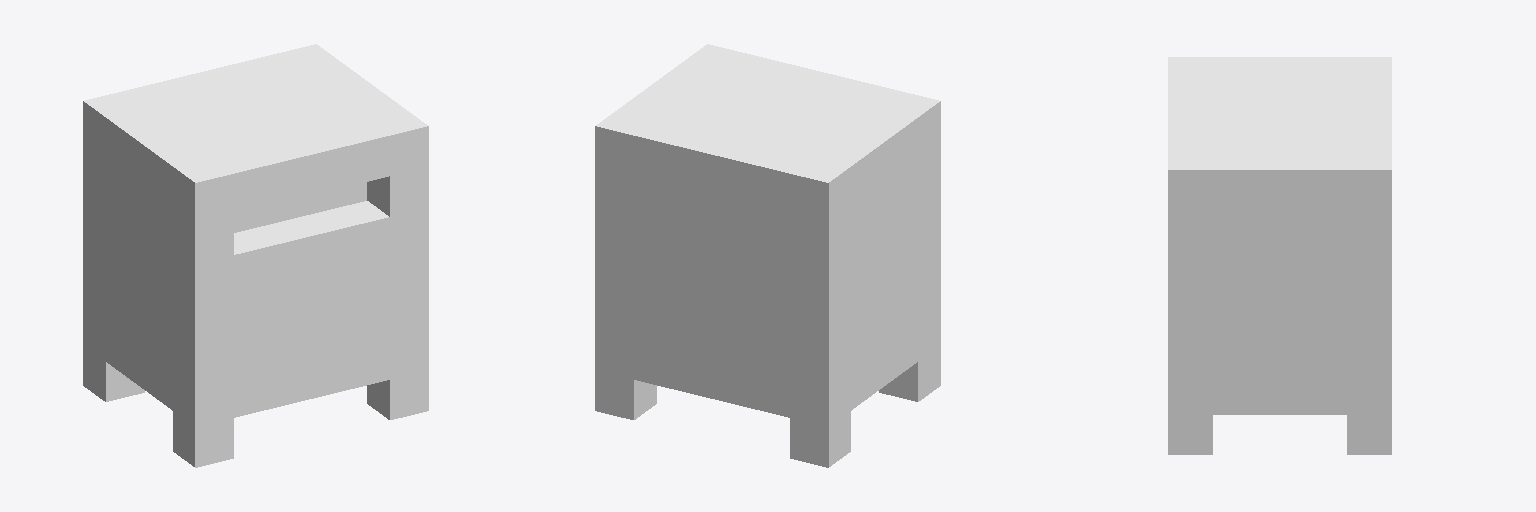
The model's file is skrzynka (1).obj.
3 renders of one model, left to right at view 1: azimuth 30°, elevation 25°; view 2: azimuth 150°, elevation 25°; view 3: azimuth 270°, elevation 25°, orthographic.
Parts seen in each view (by area): view 1: object 1; view 2: object 1; view 3: object 1.
Part boxes in pixels (left/top/right/bottom): object 1: left=83, top=44, right=428, bottom=467; object 1: left=595, top=44, right=940, bottom=467; object 1: left=1168, top=57, right=1391, bottom=454.
Size of the model in its own units: 0.6 by 0.7 by 0.5.